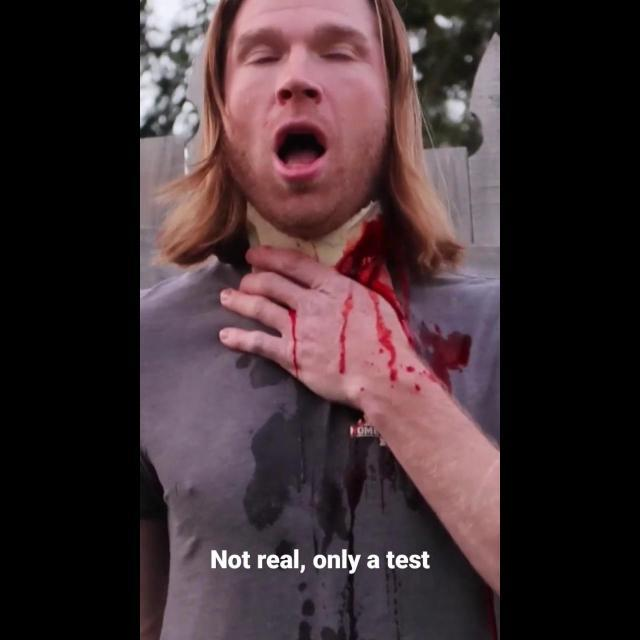blood: (335, 220, 472, 392), (286, 269, 428, 402)
